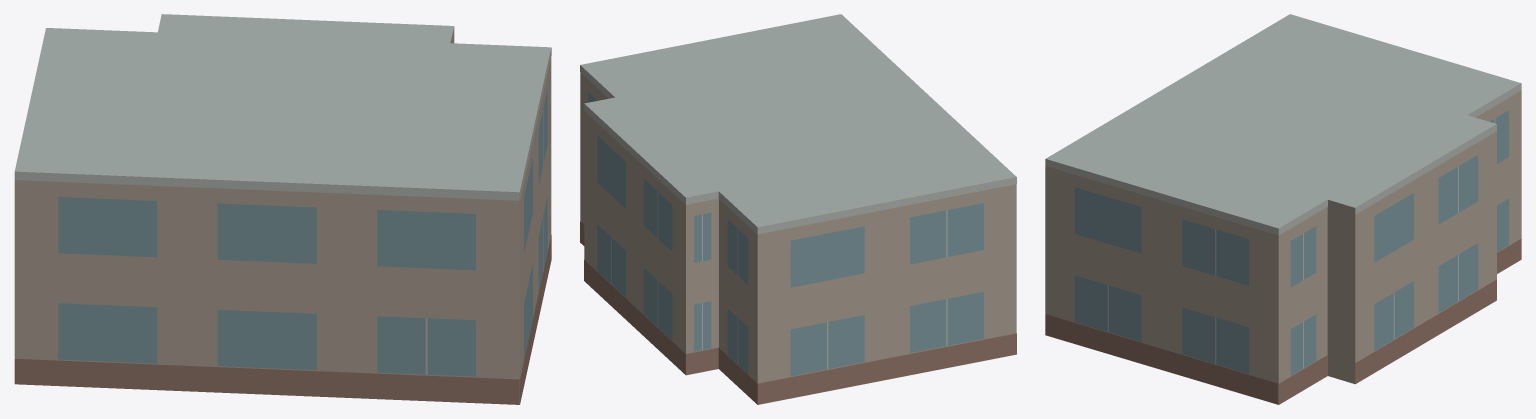
The model's file is survey-upis-32813637.glb.
The picture shows the model from 3 angles, left to right: view 1: azimuth 30°, elevation 25°; view 2: azimuth 150°, elevation 25°; view 3: azimuth 270°, elevation 25°; orthographic projection. The views are drawn at different scales.
Visible parts, largest first — view 1: survey-upis-32813637.tmp; view 2: survey-upis-32813637.tmp; view 3: survey-upis-32813637.tmp.
Part boxes in pixels (x1,y1,x2,y2): survey-upis-32813637.tmp: [14, 14, 551, 404]; survey-upis-32813637.tmp: [580, 14, 1016, 404]; survey-upis-32813637.tmp: [1045, 14, 1521, 404].
Bounding box in the file's own units: 15.92 × 6.1 × 14.93.
